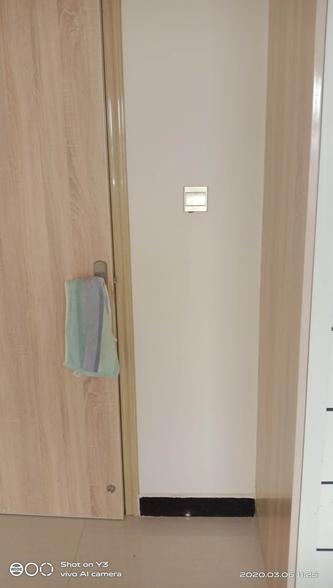switch: (185, 187, 208, 210)
